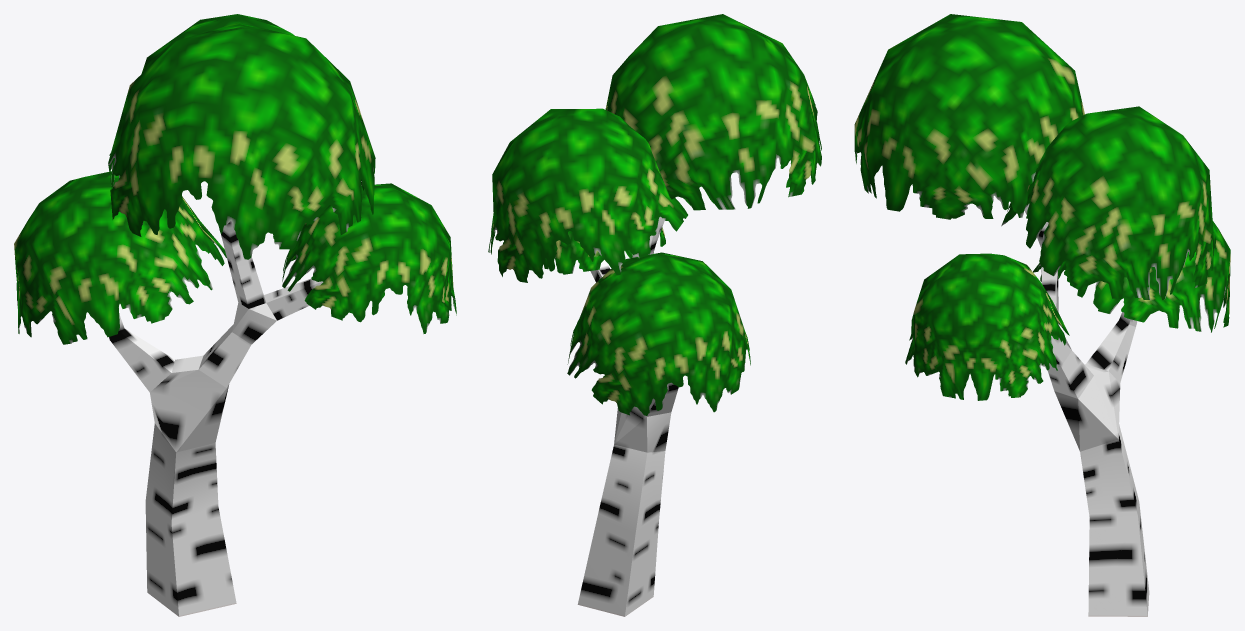
File: SM_Tree_G02.fbx
3 views of the same model, side by side, from view 1: azimuth 30°, elevation 25°; view 2: azimuth 150°, elevation 25°; view 3: azimuth 270°, elevation 25° (orthographic). The views are drawn at different scales.
Visible parts, largest first — view 1: SM_Tree_G02; view 2: SM_Tree_G02; view 3: SM_Tree_G02.
Part boxes in pixels (bbox=[...]): SM_Tree_G02: bbox=[14, 14, 456, 616]; SM_Tree_G02: bbox=[488, 14, 821, 616]; SM_Tree_G02: bbox=[854, 14, 1230, 616].
Bounding box in the file's own units: 160 × 288 × 173.
